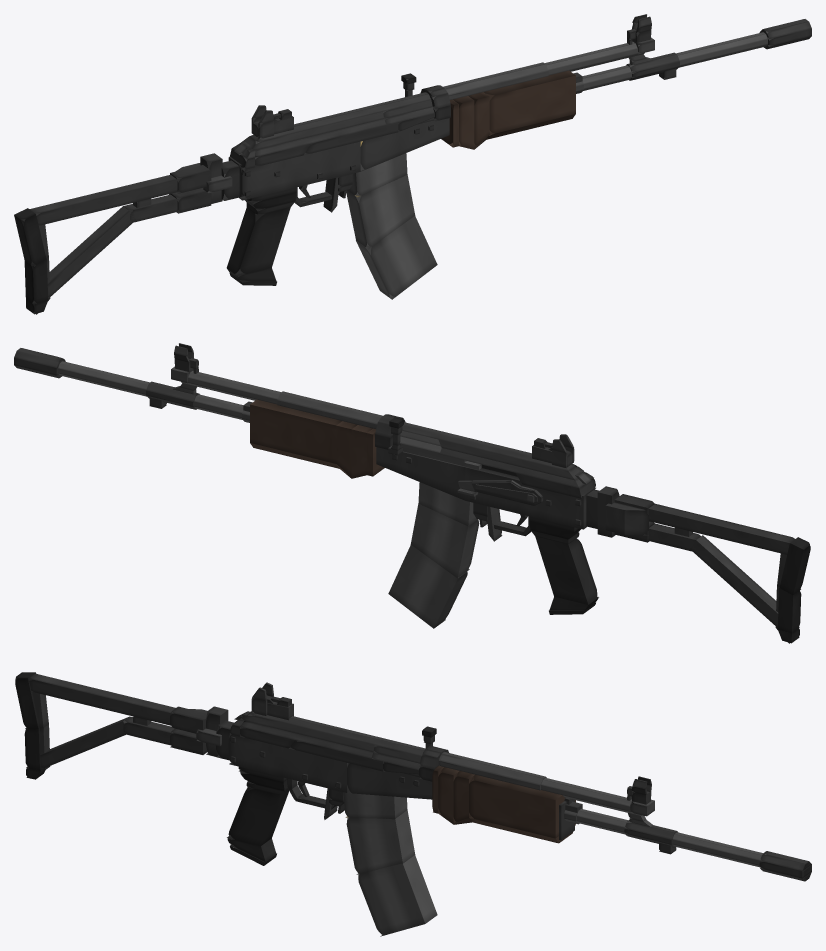
The model's file is galil.obj.
3 views of the same model, one above another, from view 1: azimuth 30°, elevation 25°; view 2: azimuth 150°, elevation 25°; view 3: azimuth 330°, elevation 25° (orthographic).
Visible parts, largest first — view 1: gunModel80, gunModel0, ammoModel2, ammoModel1, gunModel96, gunModel64, gunModel73, gunModel97, gunModel5, ammoModel0, gunModel20, gunModel99 (+16 smaller); view 2: gunModel80, ammoModel2, ammoModel1, gunModel0, gunModel96, gunModel64, gunModel73, gunModel97, gunModel5, ammoModel0, gunModel105, gunModel20 (+14 smaller); view 3: ammoModel2, gunModel80, gunModel0, ammoModel1, gunModel96, gunModel64, gunModel73, gunModel97, ammoModel0, gunModel5, gunModel20, gunModel23 (+18 smaller).
Part boxes in pixels (x1=…): gunModel80: x1=470, y1=70, x2=575, y2=134; gunModel0: x1=228, y1=141, x2=360, y2=200; ammoModel2: x1=356, y1=216, x2=437, y2=299; ammoModel1: x1=346, y1=175, x2=415, y2=249; gunModel96: x1=29, y1=175, x2=181, y2=225; gunModel64: x1=226, y1=207, x2=290, y2=275; gunModel73: x1=360, y1=118, x2=449, y2=171; gunModel97: x1=47, y1=206, x2=135, y2=298; gunModel5: x1=249, y1=92, x2=431, y2=142; ammoModel0: x1=348, y1=141, x2=407, y2=197; gunModel20: x1=582, y1=31, x2=768, y2=83; gunModel99: x1=14, y1=208, x2=46, y2=266; gunModel80: x1=250, y1=399, x2=341, y2=463; ammoModel2: x1=388, y1=545, x2=467, y2=628; ammoModel1: x1=410, y1=503, x2=479, y2=578; gunModel0: x1=465, y1=467, x2=594, y2=529; gunModel96: x1=648, y1=503, x2=794, y2=554; gunModel64: x1=535, y1=536, x2=598, y2=604; gunModel73: x1=376, y1=447, x2=465, y2=500; gunModel97: x1=690, y1=535, x2=778, y2=627; gunModel5: x1=402, y1=422, x2=576, y2=471; ammoModel0: x1=418, y1=482, x2=477, y2=526; gunModel105: x1=605, y1=502, x2=648, y2=535; gunModel20: x1=58, y1=361, x2=243, y2=412; ammoModel2: x1=358, y1=855, x2=437, y2=936; gunModel80: x1=469, y1=774, x2=575, y2=838; gunModel0: x1=228, y1=734, x2=347, y2=792; ammoModel1: x1=346, y1=810, x2=415, y2=874; gunModel96: x1=29, y1=673, x2=175, y2=725; gunModel64: x1=227, y1=787, x2=289, y2=845; gunModel73: x1=347, y1=763, x2=432, y2=799; gunModel97: x1=40, y1=716, x2=129, y2=768; ammoModel0: x1=343, y1=787, x2=407, y2=819; gunModel5: x1=249, y1=712, x2=425, y2=756; gunModel20: x1=576, y1=809, x2=766, y2=860; gunModel23: x1=439, y1=752, x2=546, y2=785.
Bounding box in the file's own units: 33.34 × 8.76 × 1.7.
